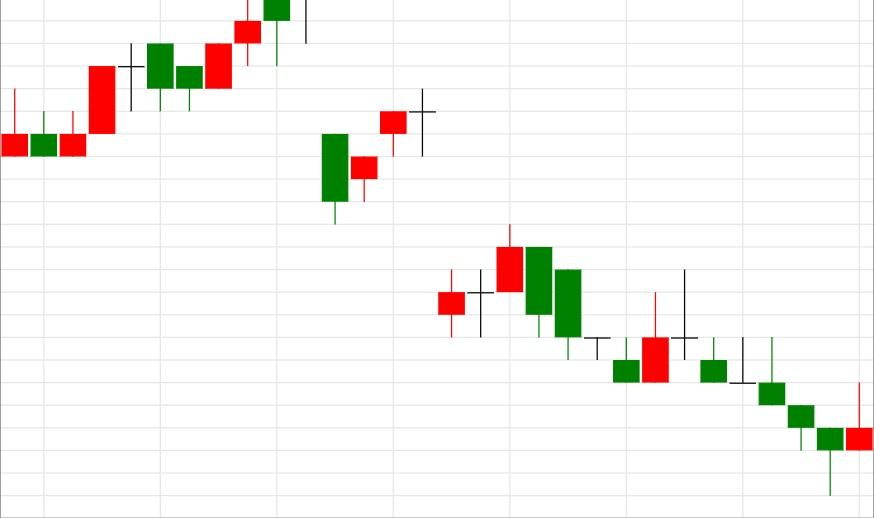bullish_engulfing_rise: (496, 225, 670, 384)
hanging_man_fall: (146, 0, 291, 112)
